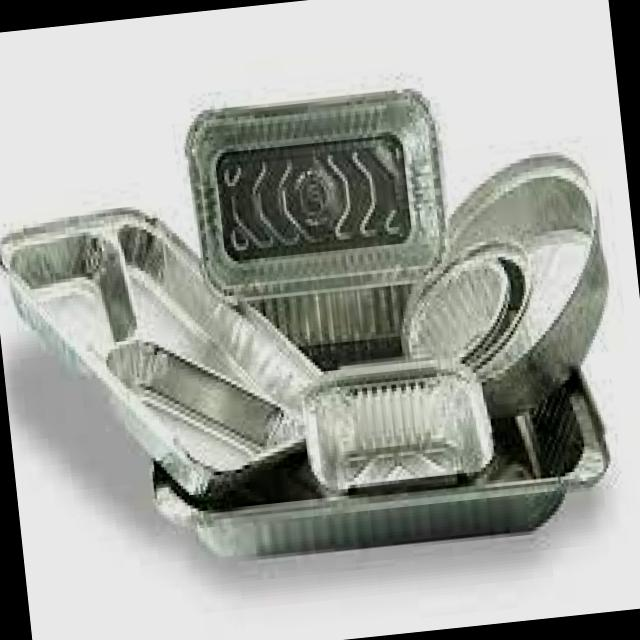kim_loai: (0, 209, 318, 497), (152, 395, 606, 562), (183, 94, 446, 353), (398, 157, 608, 408), (307, 360, 494, 490)
